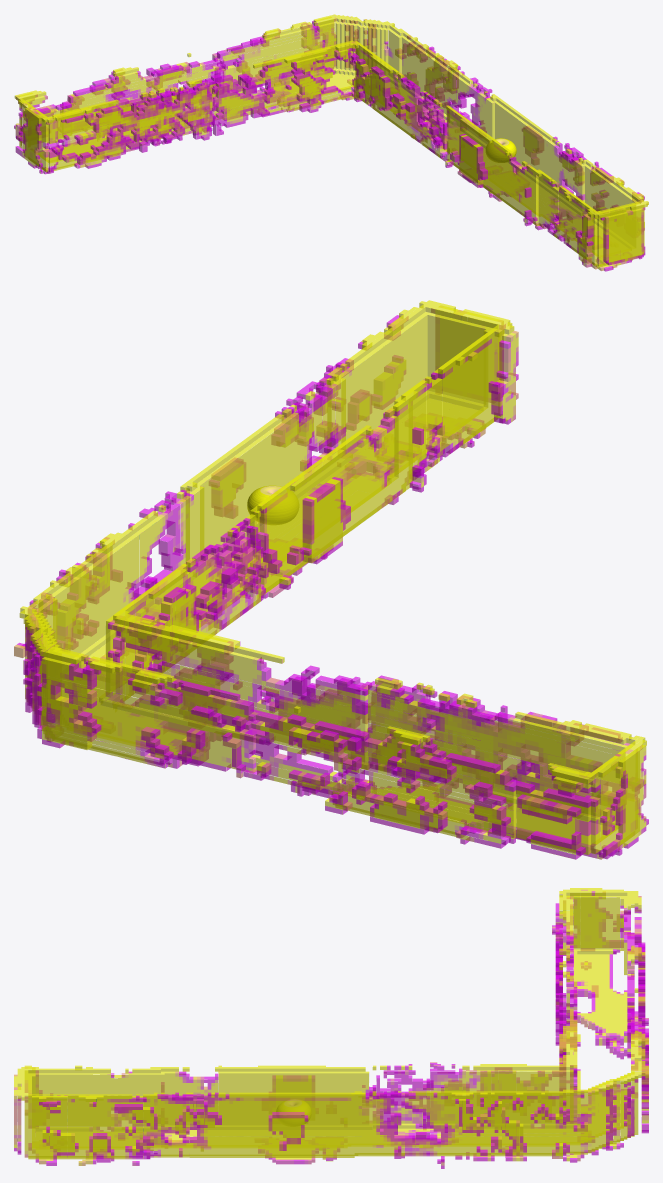
Rendered from test_chamber_spec_soft_refl.glb.
The picture shows the model from 3 angles, top to bottom: view 1: azimuth 30°, elevation 25°; view 2: azimuth 150°, elevation 25°; view 3: azimuth 270°, elevation 25°; orthographic projection. The views are drawn at different scales.
Visible parts, largest first — view 1: chunk:0.023, chunk:2.018, chunk:1.019, chunk:3.018, Emitter-0 2232.000000MHz 2.000000w.023; view 2: chunk:0.023, chunk:2.018, chunk:3.018, chunk:1.019, Emitter-0 2232.000000MHz 2.000000w.023; view 3: chunk:0.023, chunk:2.018, chunk:3.018, chunk:1.019, Emitter-0 2232.000000MHz 2.000000w.023.
Part boxes in pixels (x1,y1,x2,y2): chunk:0.023: (14,14,547,215); chunk:2.018: (363,19,575,204); chunk:1.019: (522,161,624,271); chunk:3.018: (550,148,648,265); Emitter-0 2232.000000MHz 2.000000w.023: (486,138,516,162); chunk:0.023: (23,425,648,859); chunk:2.018: (14,391,324,712); chunk:3.018: (295,300,470,486); chunk:1.019: (345,310,518,505); Emitter-0 2232.000000MHz 2.000000w.023: (247,485,298,524); chunk:0.023: (189,888,648,1152); chunk:2.018: (189,1082,616,1168); chunk:3.018: (14,1082,189,1165); chunk:1.019: (14,1065,189,1152); Emitter-0 2232.000000MHz 2.000000w.023: (276,1099,311,1123).
Bounding box in the file's own units: 14 × 2.2 × 17.7.
5 materials, 4 textured.
